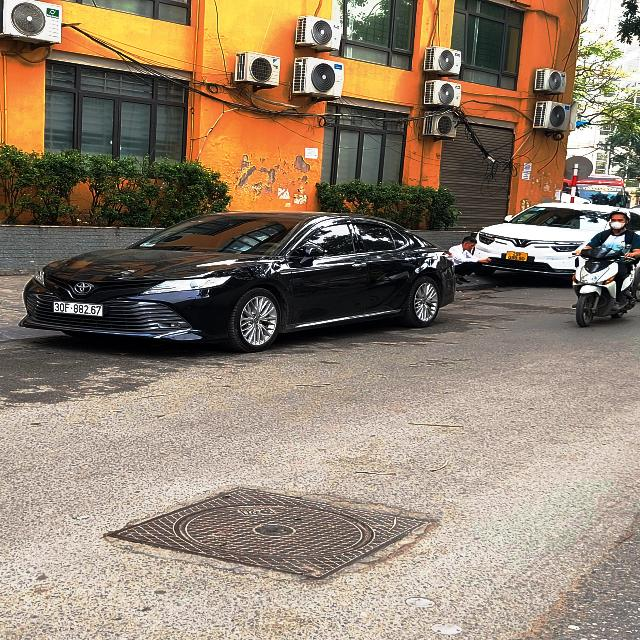license_plate: (54, 302, 105, 317), (507, 251, 530, 262)
